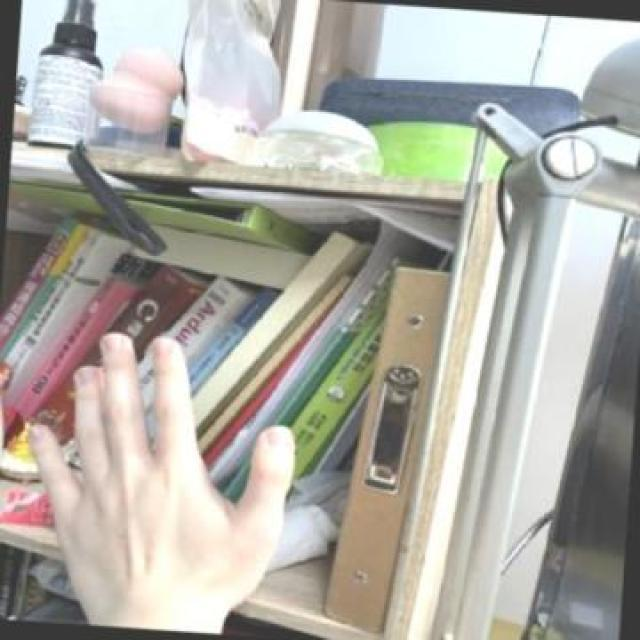without_gloves: (0, 295, 313, 638)
